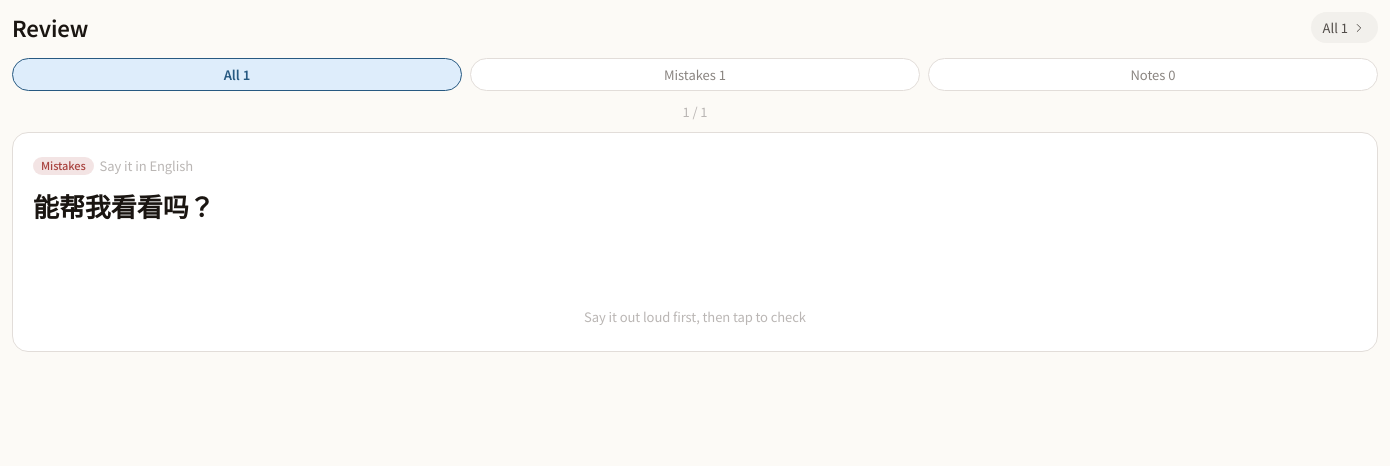
Scenario: ReviewPage › shows 'Done for now' with archived count when all cards reviewed
Click the text "能帮我看看吗？". click: x=124, y=205
box: [33,187,214,224]
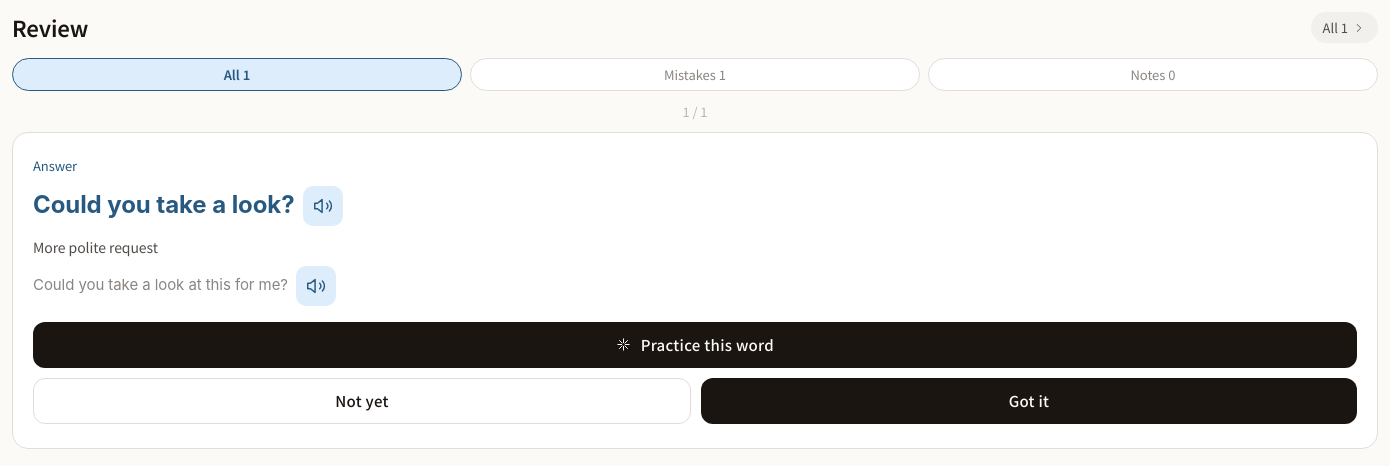
Now the button "Got it" is shown
Click the button "Got it". click: x=1029, y=401
box: [701,378,1357,424]
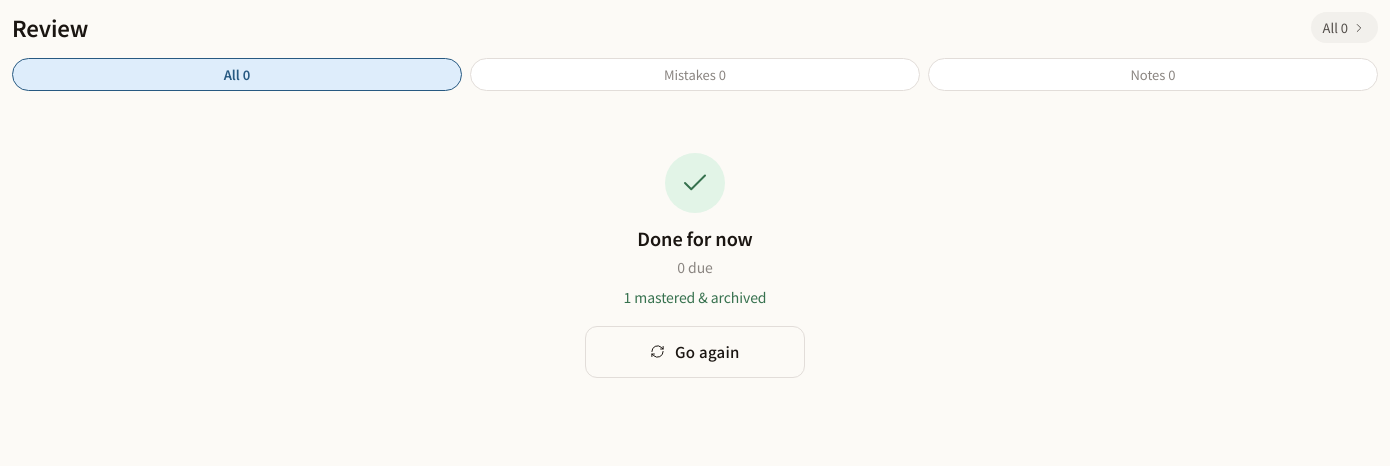
Now the text "Done for now" is shown, box [637,225,753,251]
Now the text "1 mastered & archived" is shown, box [624,287,766,308]
